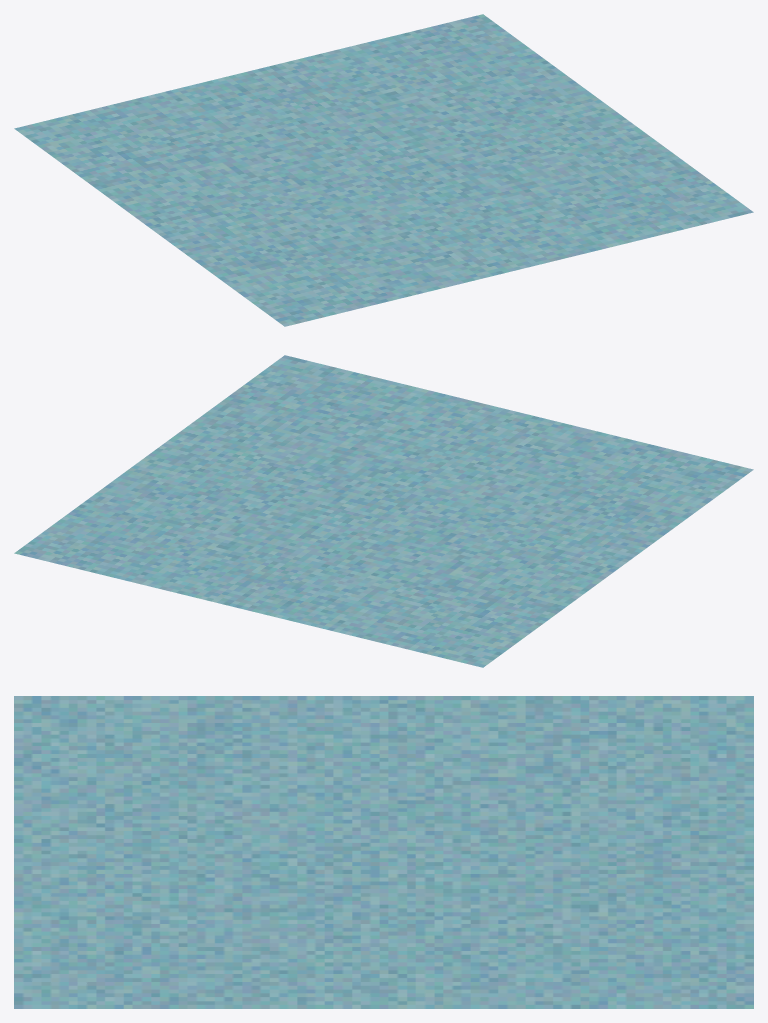
Rendered from ice.glb.
3 renders of one model, top to bottom at view 1: azimuth 30°, elevation 25°; view 2: azimuth 150°, elevation 25°; view 3: azimuth 270°, elevation 25°, orthographic. The views are drawn at different scales.
Visible parts, largest first — view 1: Plane; view 2: Plane; view 3: Plane.
Part boxes in pixels (<box>): Plane: <box>14,14,753,326</box>; Plane: <box>14,355,753,667</box>; Plane: <box>14,696,753,1008</box>.
Size of the model in its own units: 2 by 0 by 2.
1 material, 1 textured.
